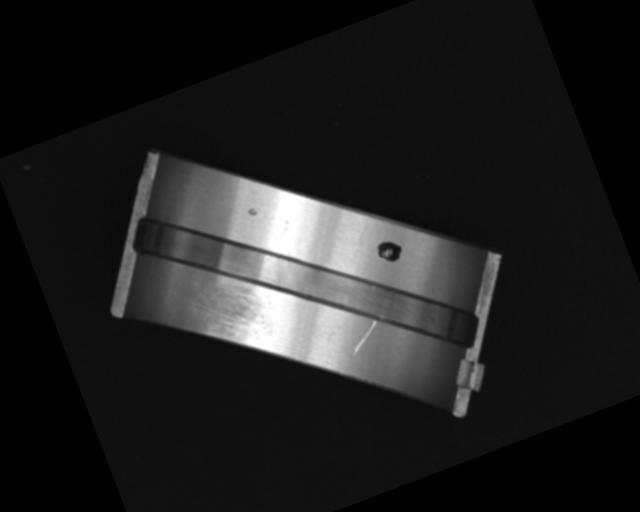blot: (372, 235, 406, 268)
bruise: (246, 206, 259, 219)
gap: (125, 122, 487, 447)
nick: (342, 318, 384, 355), (343, 224, 377, 259)
scratch: (182, 269, 282, 366)
